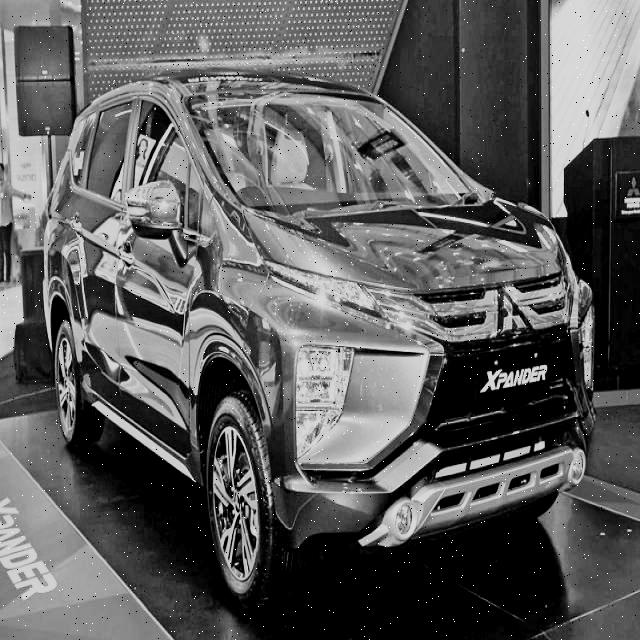Car: (46, 74, 624, 602)
